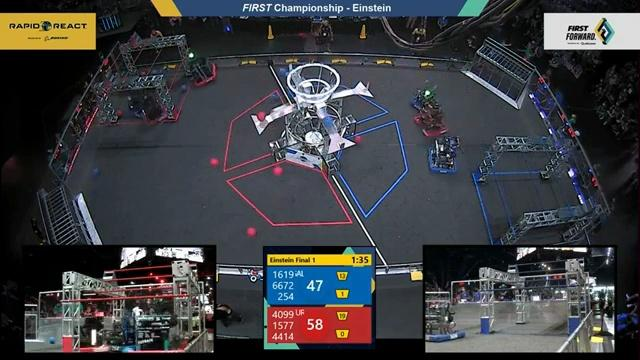robot: (181, 46, 221, 90), (427, 134, 462, 181), (414, 99, 453, 140), (123, 76, 157, 116), (410, 75, 443, 113), (143, 90, 170, 126)
